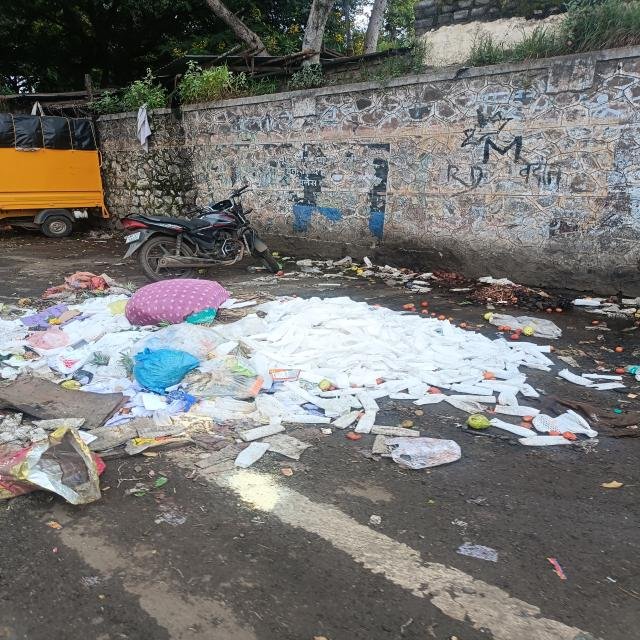garbage: (6, 261, 630, 485)
